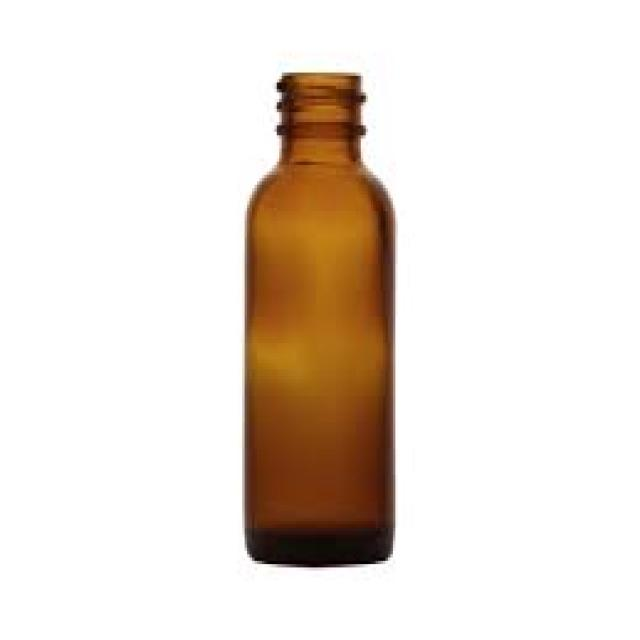glass: (242, 73, 393, 564)
